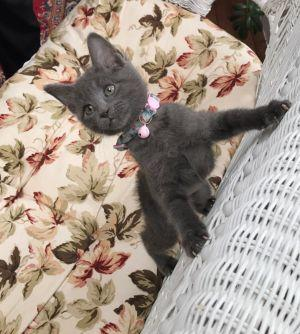rblue: (38, 30, 150, 143)
